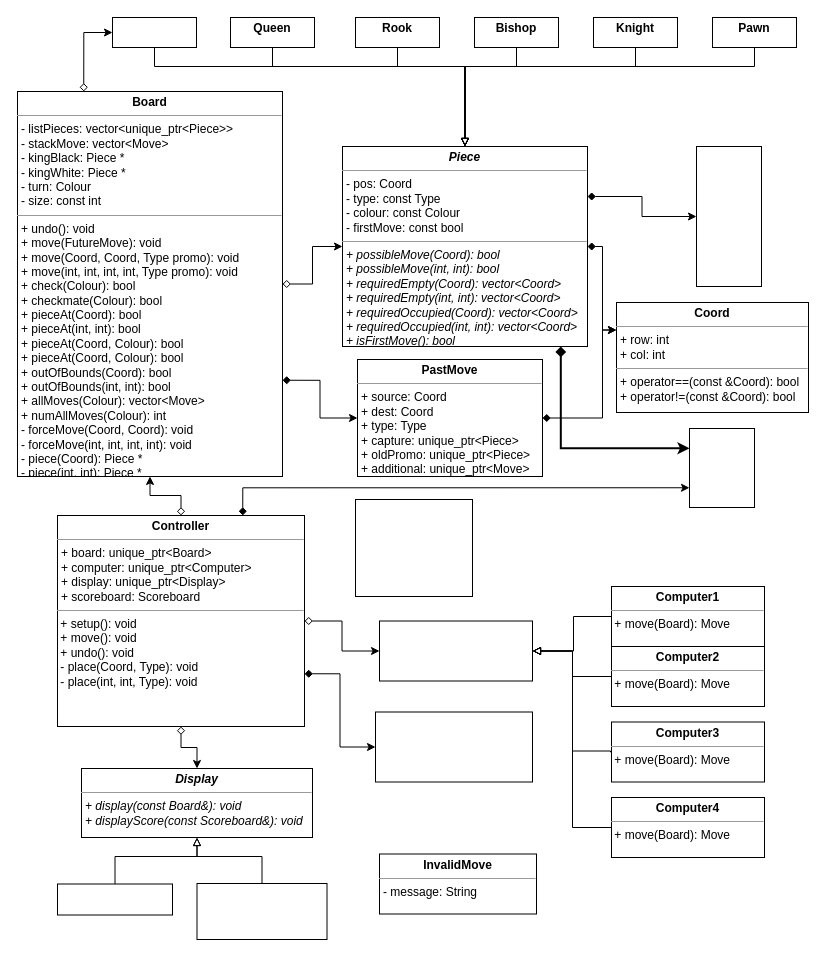
The diagram is 826 pixels wide and 957 high, and some of its shapes have lost their labels. The centre of each missing label's shape, as x and y in pixels:
"<<enum>> Colour White Black" goes at point 721,468.
"<<enum>> Type King Queen Rook Bishop Knight Pawn" goes at point 729,216.
"Computer + move(Board): Move" goes at point 455,650.
"FutureMove + source: Coord + dest: Coord + isPromo: bool + type: Type" goes at point 413,547.
"GraphicsDisplay - w: XWindow" goes at point 261,911.
"King" goes at point 154,32.
"Scoreboard - whiteScore: int - blackScore: int" goes at point 453,746.
"TextDisplay" goes at point 114,899.
